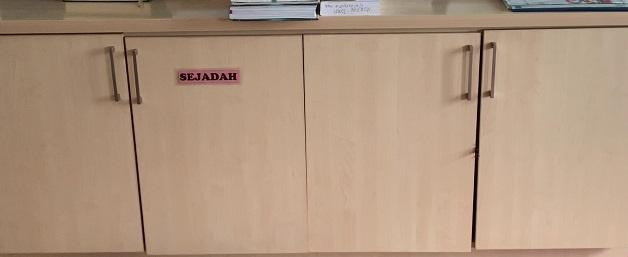cabinet_door: (304, 33, 477, 254), (133, 35, 305, 255), (482, 33, 628, 251), (0, 35, 131, 257)
handle: (96, 47, 120, 104), (457, 42, 480, 99), (125, 48, 148, 104), (483, 41, 504, 99)
